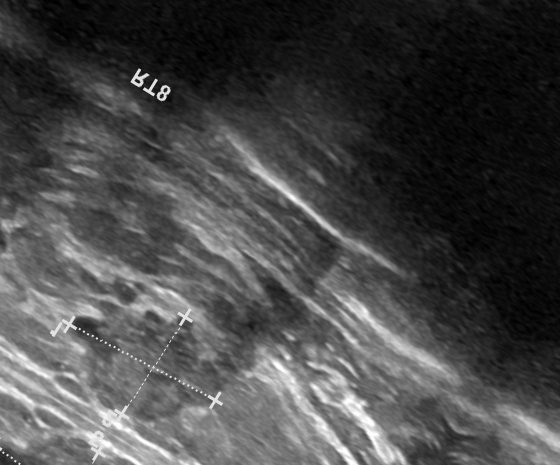Benign: (69, 304, 213, 414)
